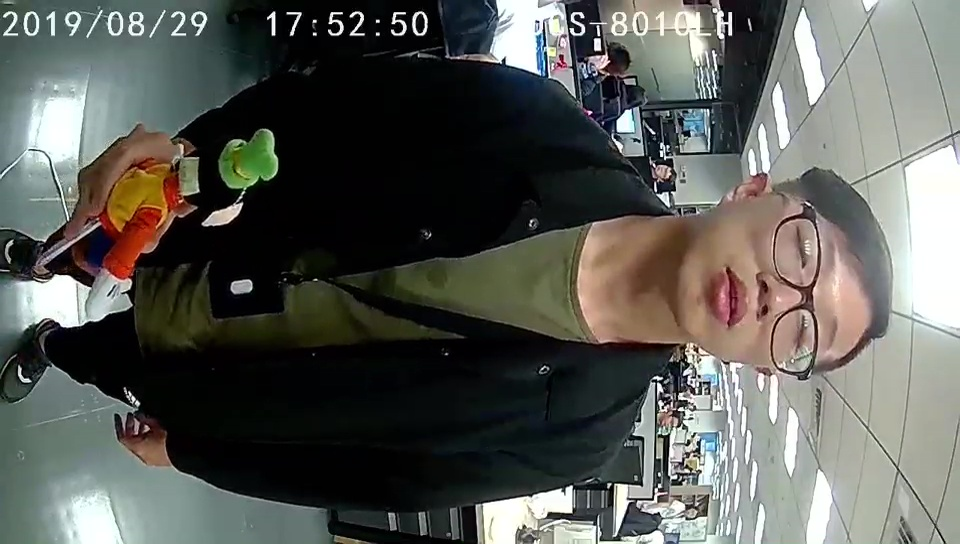goofy: (83, 125, 280, 321)
